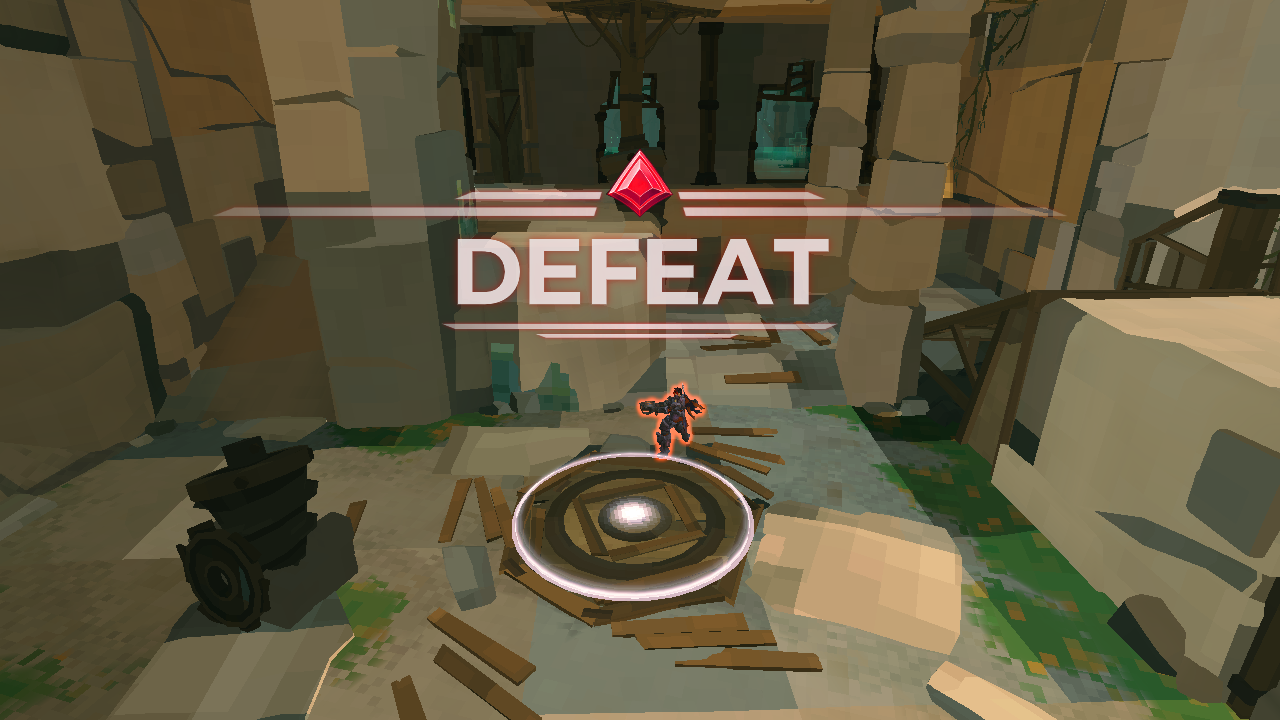model: (652, 383, 693, 457)
